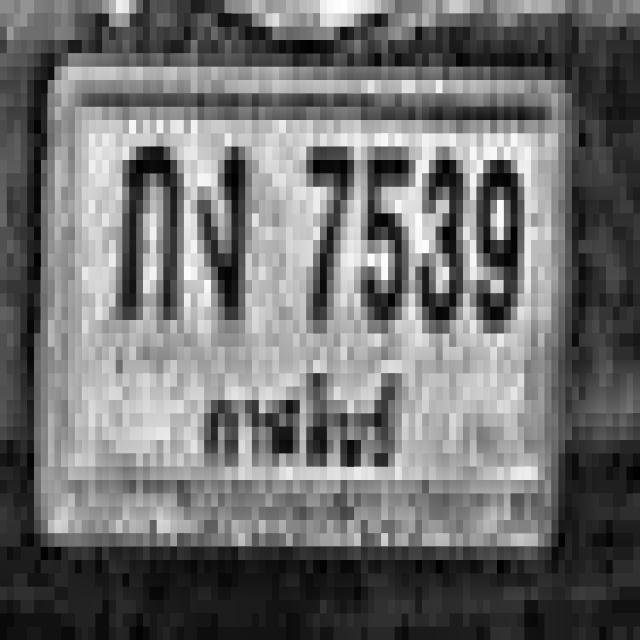license-plate: (34, 54, 573, 558)
